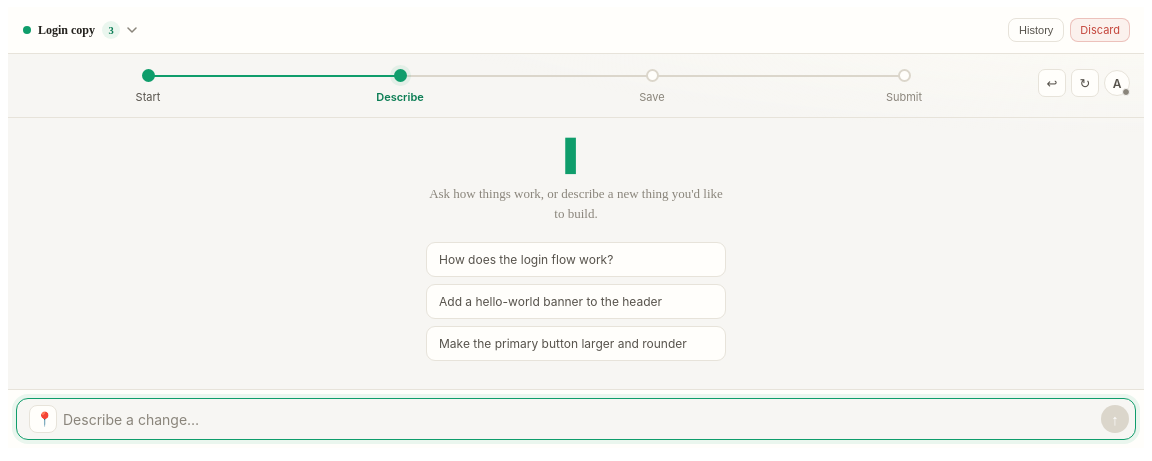
Panel › change switcher › shows who started someone else's change and offers no delete for it
What coordinates should you click on to do the following:
click the button with aria-label "your changes — login copy"
I would click on:
 (67, 30)
Its box is [16,16,792,44].
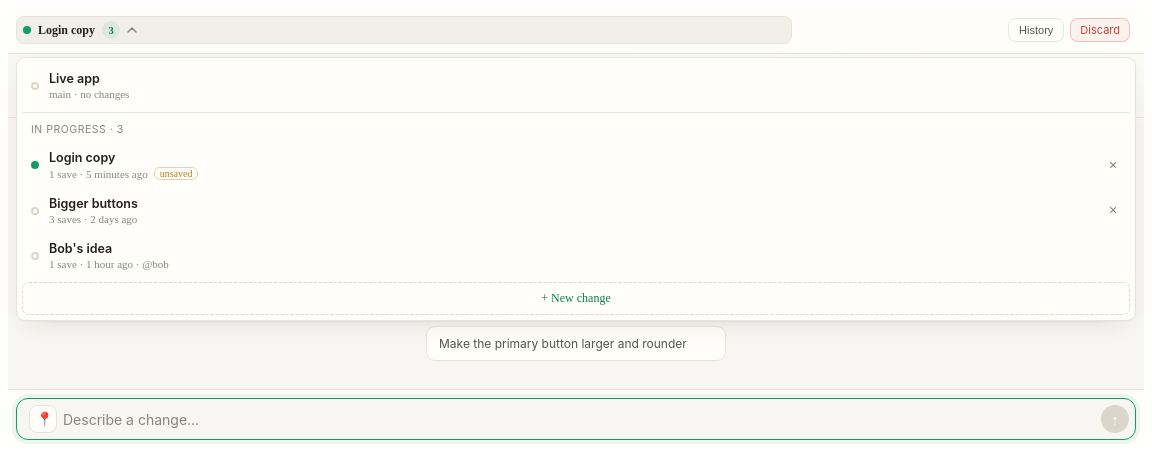
Check: the menu named "your changes" shows "1 save · 1 hour ago · @bob", box [16,57,1136,321]
Check: the button named "delete login copy" is shown, box [1100,152,1126,178]
